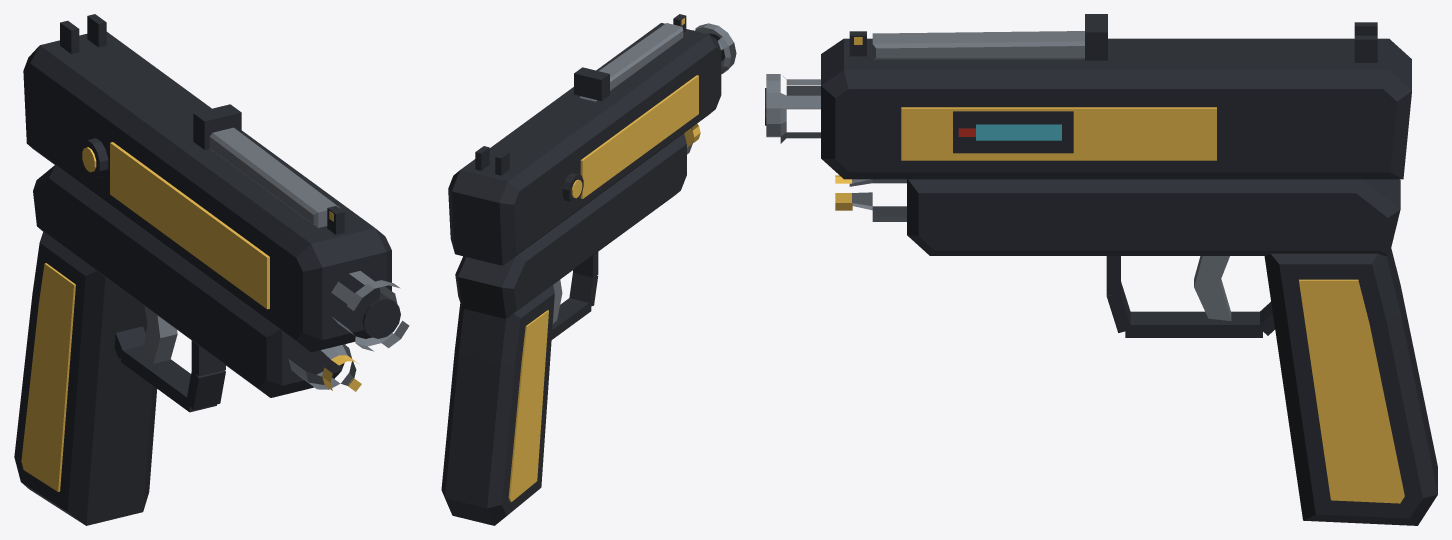
File: tranq_pistol.glb
3 views of the same model, side by side, from view 1: azimuth 30°, elevation 25°; view 2: azimuth 150°, elevation 25°; view 3: azimuth 270°, elevation 25° (orthographic). The views are drawn at different scales.
Visible parts, largest first — view 1: tranq_pistol_mesh, LEVER, TRIGGER; view 2: tranq_pistol_mesh, LEVER; view 3: tranq_pistol_mesh, LEVER, TRIGGER.
Boxes of the visible parts, left/top/right/bottom form: tranq_pistol_mesh: left=14, top=14, right=409, bottom=525; LEVER: left=193, top=104, right=340, bottom=227; TRIGGER: left=142, top=306, right=177, bottom=363; tranq_pistol_mesh: left=441, top=14, right=736, bottom=525; LEVER: left=574, top=23, right=683, bottom=101; tranq_pistol_mesh: left=765, top=22, right=1437, bottom=525; LEVER: left=872, top=14, right=1107, bottom=60; TRIGGER: left=1194, top=256, right=1231, bottom=320.
Size of the model in its own units: 0.042 by 0.188 by 0.2345.
Materials: 1 (1 with a texture image).
